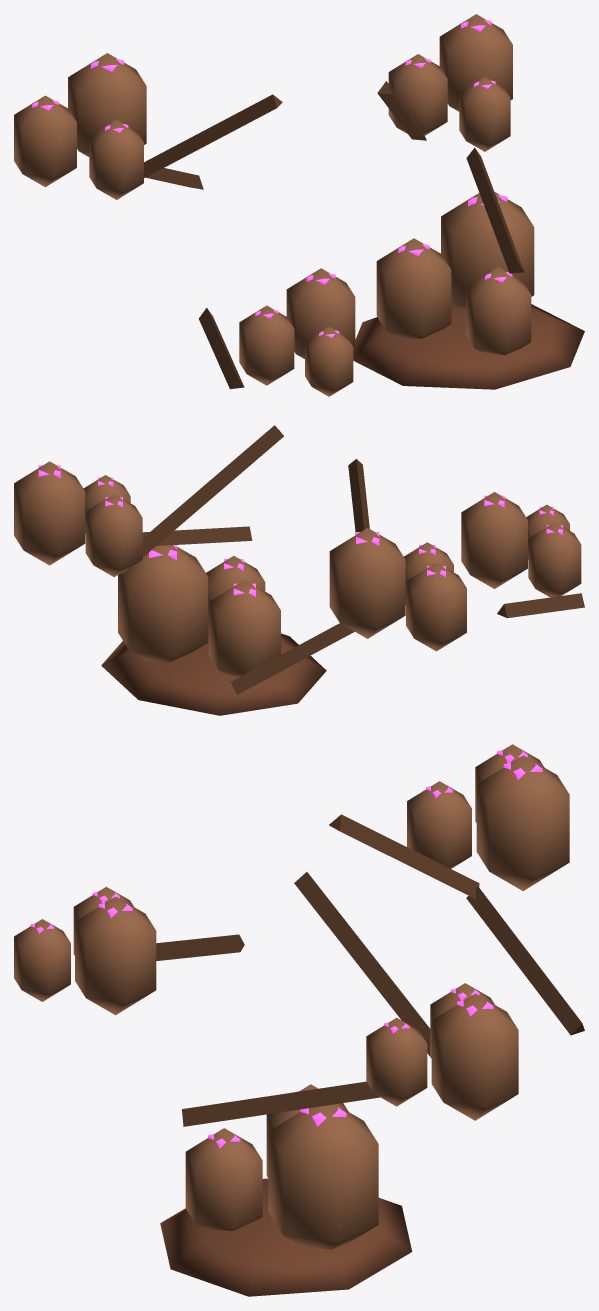
The model's file is overworld-settlement-eggs-latin-american-town.glb.
3 views of the same model, one above another, from view 1: azimuth 30°, elevation 25°; view 2: azimuth 150°, elevation 25°; view 3: azimuth 270°, elevation 25° (orthographic). The views are drawn at different scales.
Parts seen in each view (by area): view 1: settlement_eggs; view 2: settlement_eggs; view 3: settlement_eggs.
Boxes of the visible parts, <box> form: settlement_eggs: <box>14,14,584,396</box>; settlement_eggs: <box>14,425,584,715</box>; settlement_eggs: <box>14,744,584,1296</box>.
Bounding box in the file's own units: 0.3732 × 0.2117 × 0.3292.
